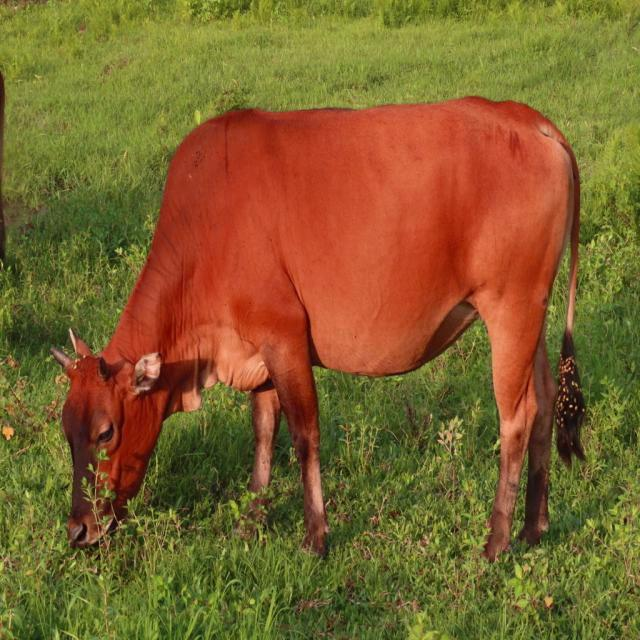cow: (52, 98, 581, 559)
